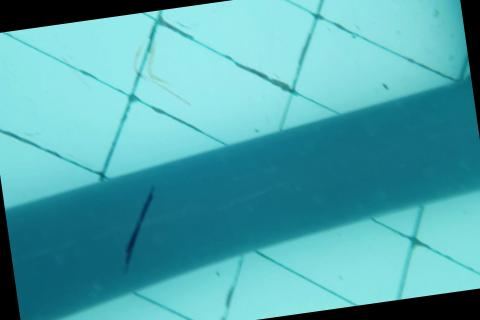keretakan: (113, 184, 166, 270)
